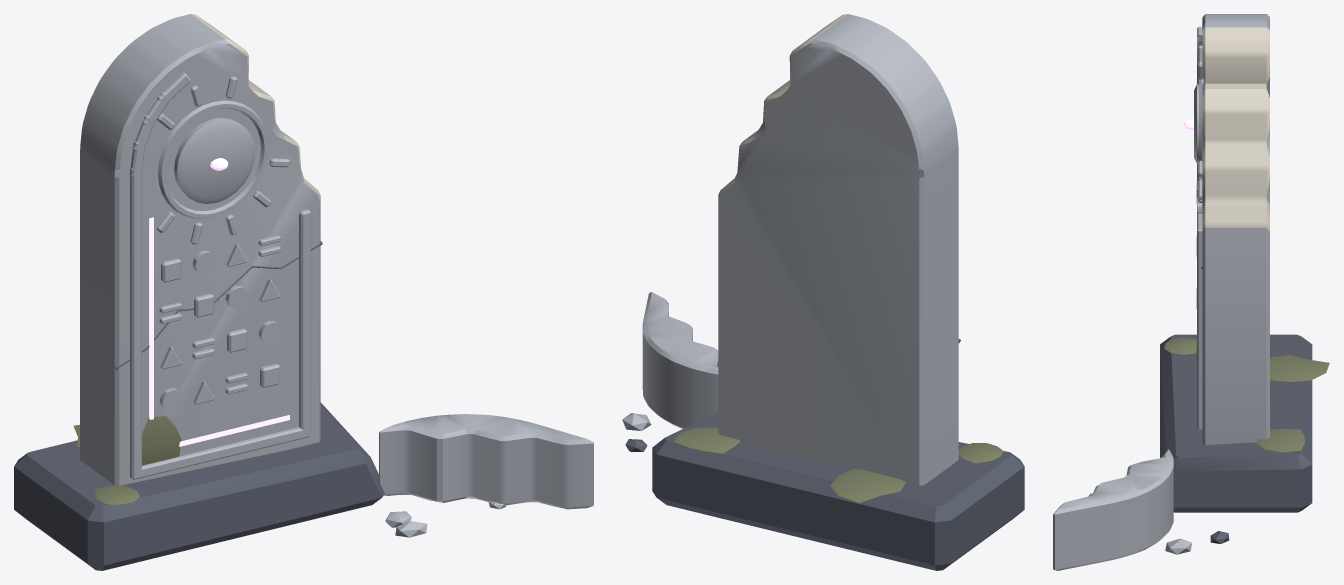
File: deco_stele.fbx
3 views of the same model, side by side, from view 1: azimuth 30°, elevation 25°; view 2: azimuth 150°, elevation 25°; view 3: azimuth 270°, elevation 25° (orthographic). The views are drawn at different scales.
Parts seen in each view (by area): view 1: Stele_Stele, Stele_Base, Stele_Relief, Stele_Fragment; view 2: Stele_Stele, Stele_Base, Stele_Fragment; view 3: Stele_Stele, Stele_Base, Stele_Fragment, Stele_Relief.
Part boxes in pixels (x1=…): Stele_Stele: x1=80, y1=14, x2=322, y2=485; Stele_Base: x1=14, y1=402, x2=384, y2=570; Stele_Relief: x1=129, y1=73, x2=310, y2=479; Stele_Fragment: x1=379, y1=414, x2=593, y2=537; Stele_Stele: x1=718, y1=14, x2=960, y2=485; Stele_Base: x1=652, y1=412, x2=1024, y2=570; Stele_Fragment: x1=622, y1=292, x2=718, y2=451; Stele_Stele: x1=1201, y1=14, x2=1269, y2=444; Stele_Base: x1=1160, y1=334, x2=1329, y2=512; Stele_Fragment: x1=1053, y1=449, x2=1229, y2=570; Stele_Relief: x1=1183, y1=26, x2=1203, y2=430.
Size of the model in its own units: 214 by 224 by 131.
